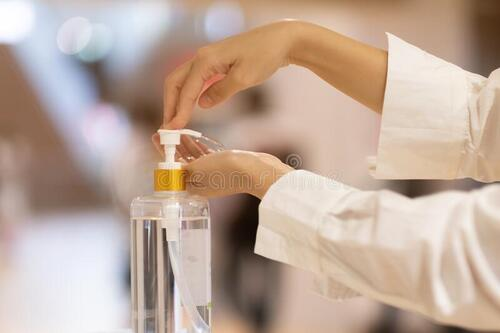sanitizer: (130, 126, 213, 333)
